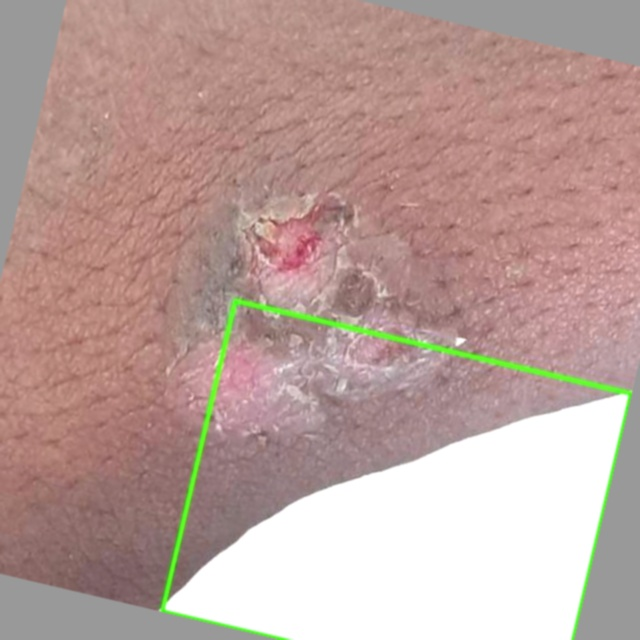Contact Dermatitis: (162, 300, 631, 639)
